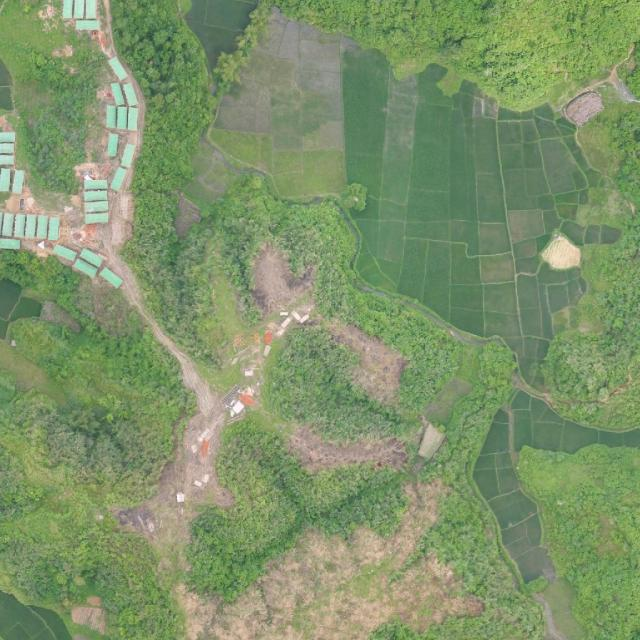agricultural_land: (248, 11, 640, 389), (197, 4, 396, 216), (456, 406, 557, 588), (510, 391, 640, 455), (0, 592, 72, 640), (0, 60, 13, 111)
building: (107, 55, 129, 82), (78, 247, 105, 269), (72, 257, 99, 279), (99, 268, 123, 289), (109, 166, 128, 192), (121, 81, 139, 107), (52, 243, 78, 261), (109, 81, 126, 107), (121, 144, 135, 168), (47, 217, 60, 242), (36, 215, 49, 240), (1, 212, 14, 237), (14, 213, 26, 238), (127, 107, 139, 131), (85, 201, 109, 213), (85, 212, 109, 224), (116, 106, 128, 129), (12, 170, 24, 193), (75, 19, 100, 30), (84, 190, 108, 201), (25, 214, 36, 237), (108, 134, 119, 156), (84, 180, 108, 190), (106, 105, 116, 127), (85, 0, 96, 19), (0, 142, 14, 155), (0, 132, 15, 143), (0, 155, 15, 165)
dryland: (110, 360, 322, 578), (309, 311, 421, 411), (233, 242, 321, 328), (285, 425, 411, 482)
greenland: (256, 184, 476, 416), (251, 316, 427, 475), (369, 482, 544, 639), (420, 336, 528, 497), (187, 167, 294, 327), (626, 54, 640, 98)
unmetalled_road: (87, 228, 225, 420)
